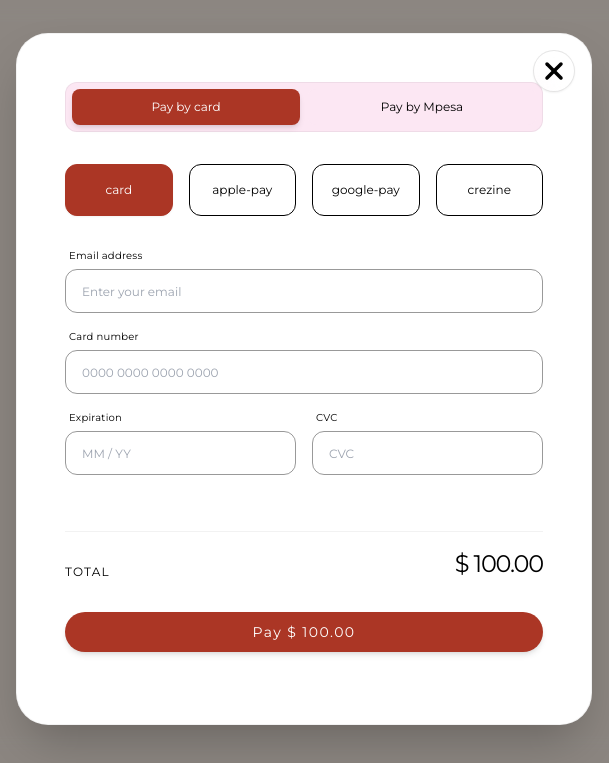
Test: TicketCheckoutView (Ticket Checkout Calculations & Actions) › validates card form fields on submit
Click the button "Pay $ 100.00".
click(304, 632)  # box 65,612 -> 543,652
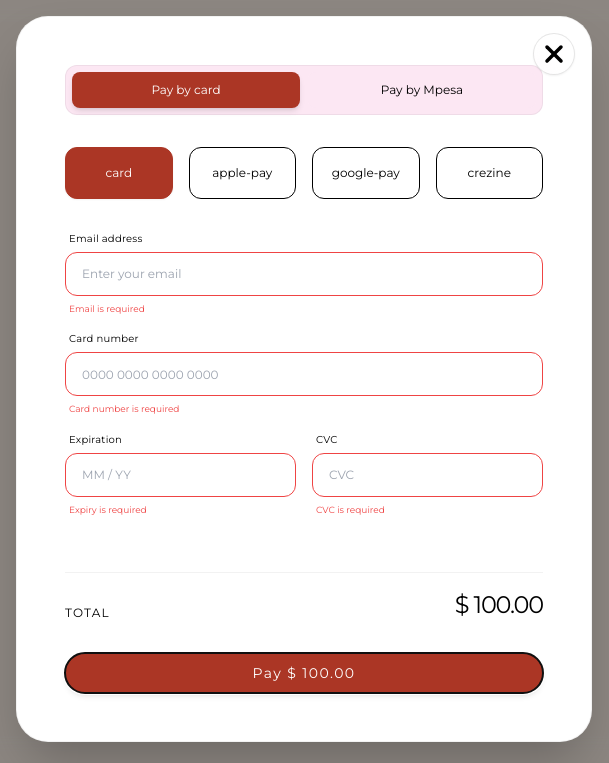
Expected: the text "Email is required" is shown, 69,303 -> 145,314
Expected: the text "Card number is required" is shown, 69,403 -> 180,414
Expected: the text "Expiry is required" is shown, 69,504 -> 147,515
